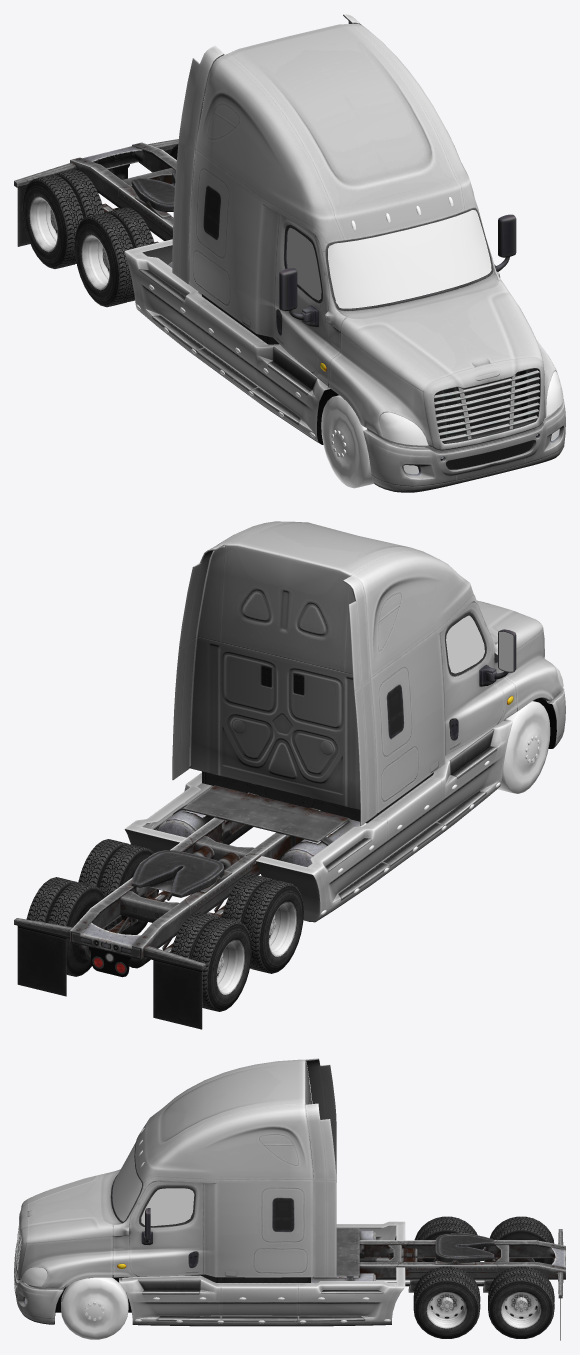
Rendered from freightliner-cascadia.glb.
3 views of the same model, one above another, from view 1: azimuth 30°, elevation 25°; view 2: azimuth 150°, elevation 25°; view 3: azimuth 270°, elevation 25° (orthographic). The views are drawn at different scales.
Visible parts, largest first — view 1: cascadia_b, matte_part, Object001_glass_beffio_0, rear_low_0_3, rear_low_0_1, front_low0_1, glass_far; view 2: cascadia_b, matte_part, rear_low_0_1, rear_low_0_3, front_low0_1, rear_low_0_2, rear_low_0, Object001_glass_beffio_0; view 3: cascadia_b, matte_part, rear_low_0, rear_low_0_2, front_low0, Object001_glass_beffio_0, rear_low_0_3, rear_low_0_1, glass_far.
Part boxes in pixels (x1=…): cascadia_b: x1=124, y1=14, x2=565, y2=492; matte_part: x1=14, y1=139, x2=560, y2=475; Object001_glass_beffio_0: x1=286, y1=210, x2=491, y2=308; rear_low_0_3: x1=22, y1=169, x2=104, y2=268; rear_low_0_1: x1=74, y1=207, x2=154, y2=307; front_low0_1: x1=321, y1=395, x2=373, y2=488; glass_far: x1=379, y1=371, x2=563, y2=474; cascadia_b: x1=124, y1=521, x2=565, y2=922; matte_part: x1=14, y1=612, x2=556, y2=1029; rear_low_0_1: x1=222, y1=874, x2=303, y2=973; rear_low_0_3: x1=170, y1=912, x2=251, y2=1011; front_low0_1: x1=497, y1=701, x2=550, y2=793; rear_low_0_2: x1=26, y1=877, x2=107, y2=976; rear_low_0: x1=78, y1=839, x2=158, y2=934; Object001_glass_beffio_0: x1=446, y1=615, x2=484, y2=673; cascadia_b: x1=14, y1=1058, x2=405, y2=1326; matte_part: x1=14, y1=1135, x2=565, y2=1340; rear_low_0: x1=413, y1=1266, x2=480, y2=1338; rear_low_0_2: x1=488, y1=1266, x2=554, y2=1338; front_low0: x1=61, y1=1277, x2=128, y2=1339; Object001_glass_beffio_0: x1=112, y1=1142, x2=194, y2=1226; rear_low_0_3: x1=490, y1=1216, x2=554, y2=1264; rear_low_0_1: x1=414, y1=1216, x2=479, y2=1261; glass_far: x1=21, y1=1267, x2=47, y2=1304.
Bounding box in the file's own units: 2.85 × 3.71 × 8.13.
Materials: 3 (2 with a texture image).
